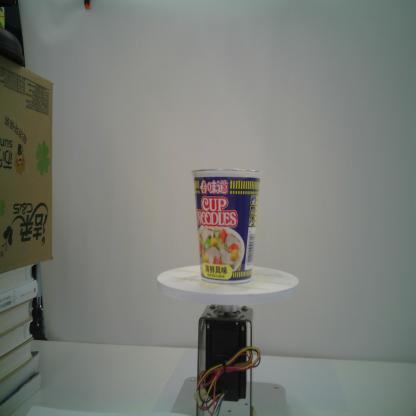Instant Noodles: (189, 164, 264, 287)
